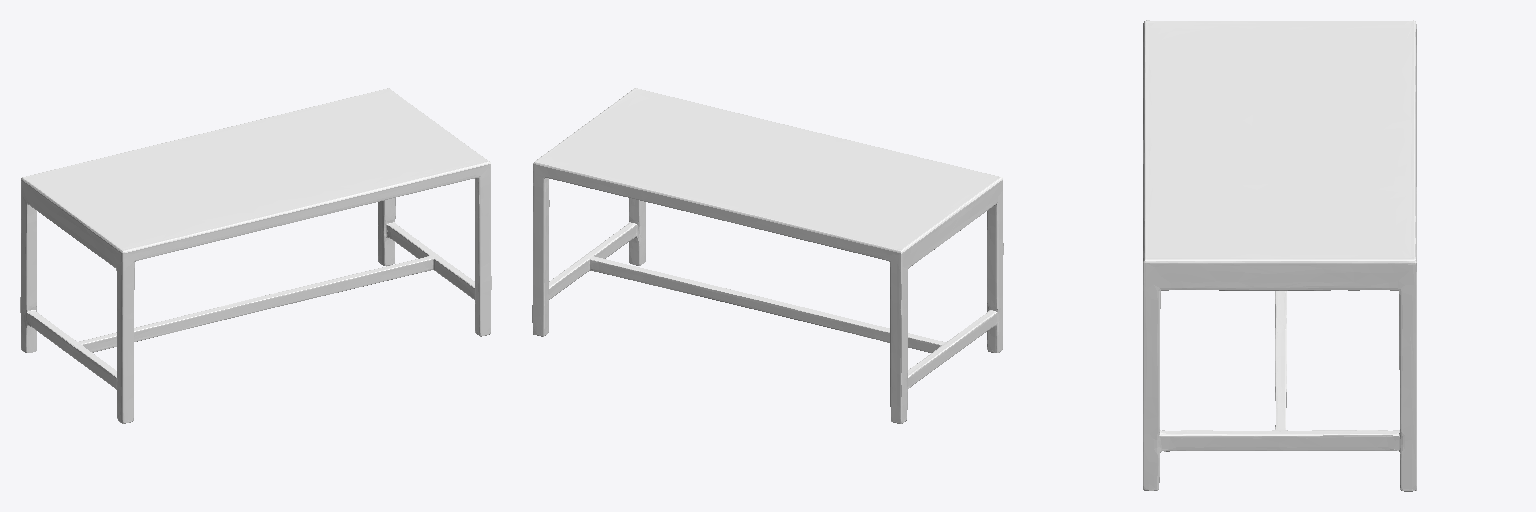
URDF robot description (mesa):
<robot name="mesa">
	<link name="_name">
		<visual>
			<origin xyz="0 0 0.376" rpy="1.5708 0 0" />
			<geometry>
				<mesh filename="007_mesa/mesa.obj" scale="1.6 1.6 1.6837" />
			</geometry>
			<material name="texture">
				<color rgba="1.0 1.0 1.0 1.0" />
			</material>
		</visual>
		<collision>
			<geometry>
				<mesh filename="007_mesa/mesa.obj" scale="1.6 1.6 1.6837" />
			</geometry>
		<origin xyz="0 0 0.376" rpy="1.5708 0 0" /></collision>
		<inertial>
			<mass value="1.0" />
			<inertia ixx="1.0" ixy="0.0" ixz="0.0" iyy="1.0" iyz="0.0" izz="1.0" />
		</inertial>
	</link>
</robot>

--- Render facts (derived) ---
3 views of the same robot in one strip: view 1: azimuth 30°, elevation 25°; view 2: azimuth 150°, elevation 25°; view 3: azimuth 270°, elevation 25° (orthographic).
Robot: mesa — 1 links, 0 joints (none); root link _name; default pose: all joints at 0.
Links seen in each view (by area): view 1: _name; view 2: _name; view 3: _name.
Link boxes in pixels (<box>): _name: <box>20,88,491,423</box>; _name: <box>532,88,1003,423</box>; _name: <box>1143,20,1416,491</box>.
Bounding box of the posed robot: 1.6 × 0.7686 × 0.7146 m (x, y, z).
1 mesh visuals loaded from 1 distinct referenced files (1 OBJ).
